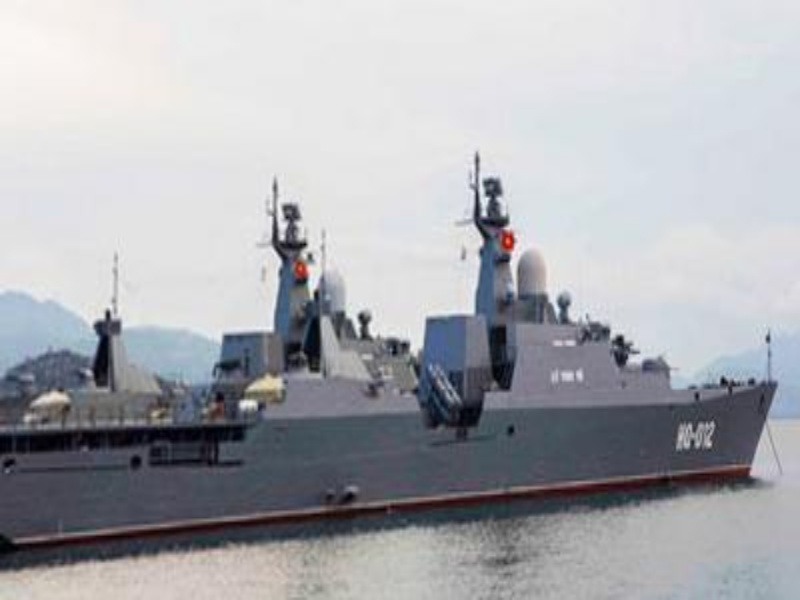cruise: (23, 221, 778, 533)
